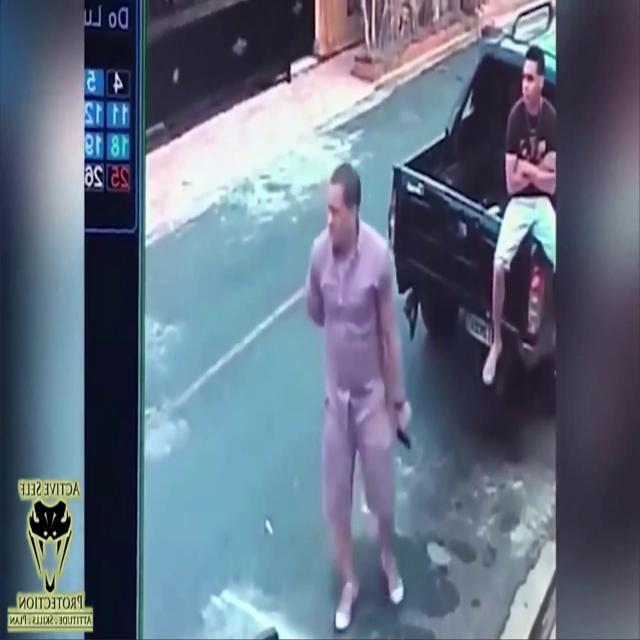Gun: (396, 417, 410, 448)
